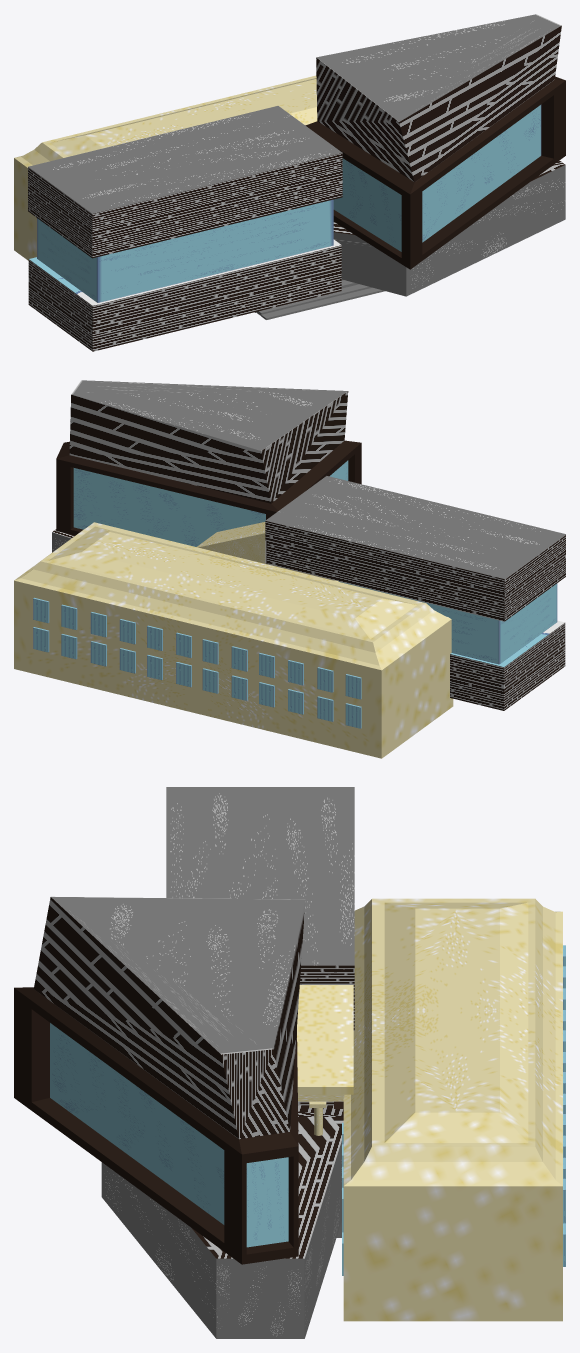
File: buildingsPart5.fbx
3 views of the same model, one above another, from view 1: azimuth 30°, elevation 25°; view 2: azimuth 150°, elevation 25°; view 3: azimuth 270°, elevation 25° (orthographic). The views are drawn at different scales.
Parts seen in each view (by area): view 1: Cube.001, Cube; view 2: Cube.001, Cube; view 3: Cube.001, Cube.
Part boxes in pixels (<box>): Cube.001: <box>28,14,565,351</box>; Cube: <box>14,75,385,319</box>; Cube.001: <box>52,380,565,710</box>; Cube: <box>14,522,453,758</box>; Cube.001: <box>14,787,354,1338</box>; Cube: <box>297,898,565,1321</box>.
Size of the model in its own units: 19546 by 7670 by 12787.
Materials: 1 (1 with a texture image).
